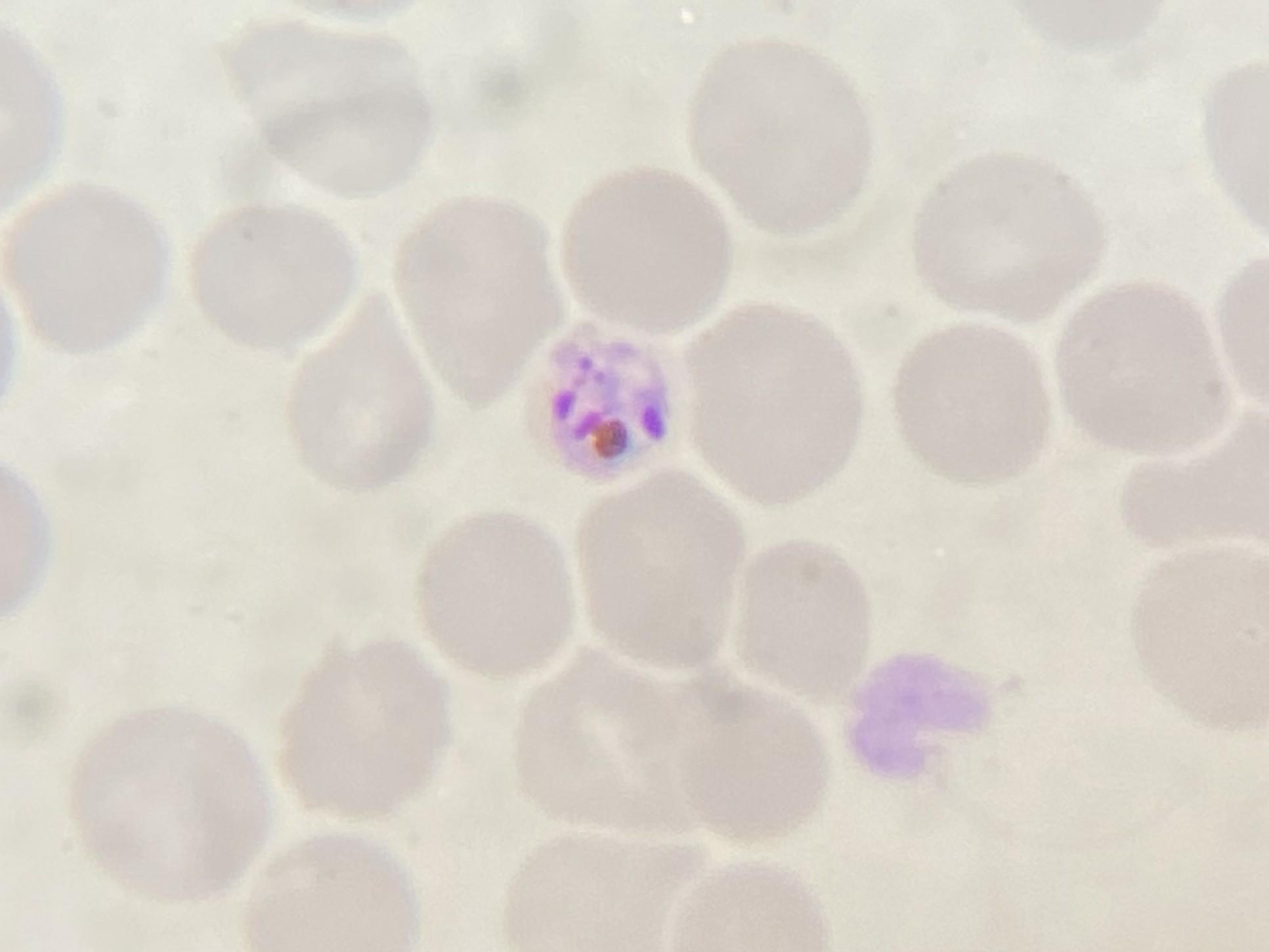Infected: (520, 322, 689, 481)
Uninfected: (68, 706, 275, 903), (212, 22, 434, 198), (687, 42, 875, 234), (686, 307, 865, 504), (392, 195, 560, 399), (572, 472, 742, 672), (282, 638, 452, 819), (912, 154, 1101, 315), (514, 680, 701, 840), (286, 297, 437, 495), (1057, 282, 1226, 454), (561, 167, 734, 333), (661, 673, 828, 844), (5, 185, 169, 355), (417, 511, 574, 680), (893, 322, 1051, 487), (192, 200, 358, 352), (1130, 548, 1269, 728), (505, 835, 700, 951), (735, 539, 871, 701), (244, 835, 420, 952), (1127, 406, 1268, 546)
